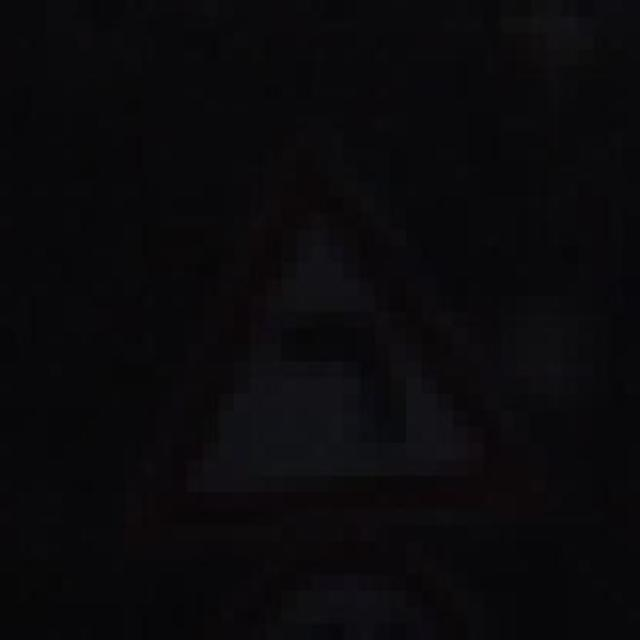Dangerous Left Curve Ahead: (121, 98, 527, 558)
